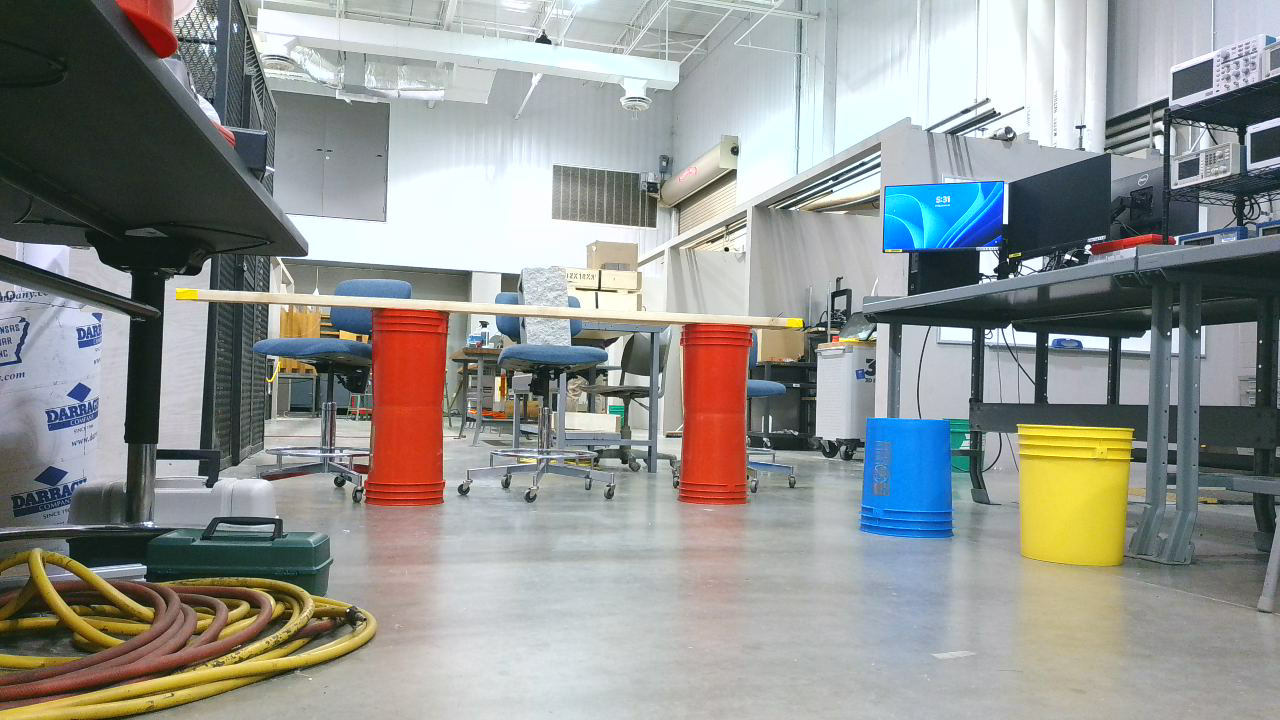blue_bucket: (861, 420, 964, 546)
red_bucket_arch: (366, 307, 760, 515)
yellow_bucket: (1015, 425, 1144, 576)
